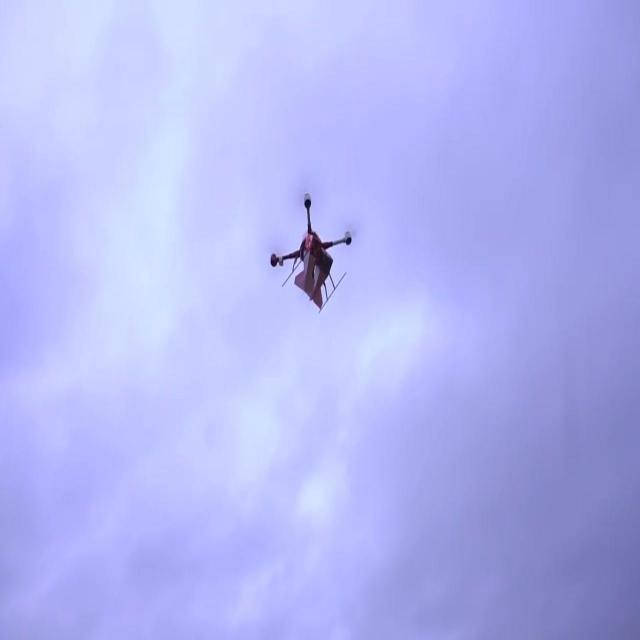UAV: (270, 193, 352, 314)
